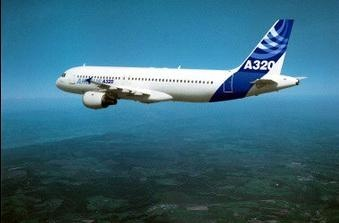airplane: (53, 18, 308, 114)
